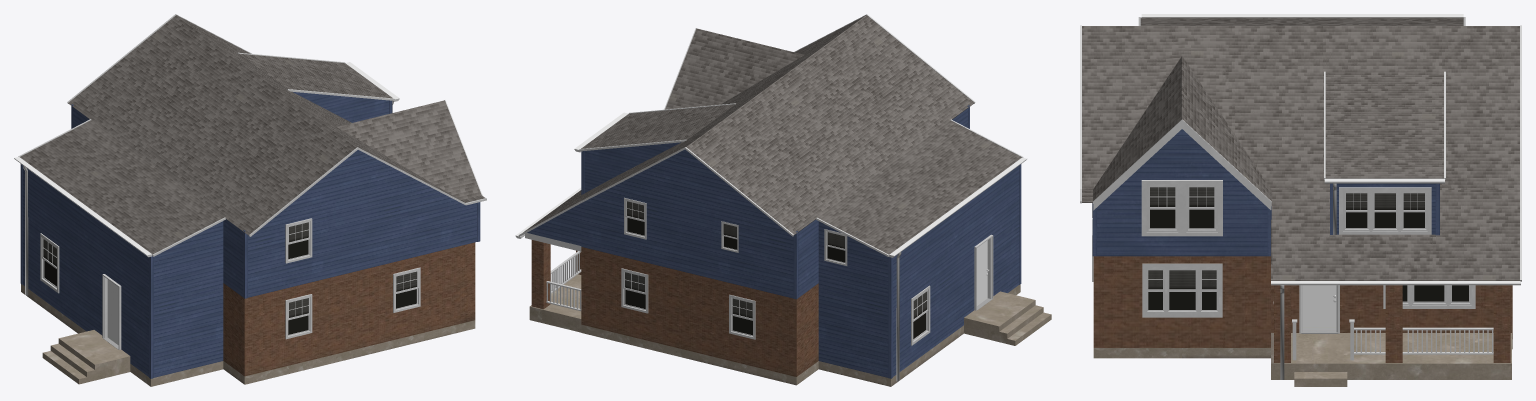
Rendered from home-3.glb.
3 views of the same model, side by side, from view 1: azimuth 30°, elevation 25°; view 2: azimuth 150°, elevation 25°; view 3: azimuth 270°, elevation 25° (orthographic). The views are drawn at different scales.
Parts seen in each view (by area): view 1: Home3_col_V2; view 2: Home3_col_V2; view 3: Home3_col_V2.
Boxes of the visible parts, bbox=[...] form: Home3_col_V2: bbox=[14, 14, 486, 386]; Home3_col_V2: bbox=[515, 14, 1051, 386]; Home3_col_V2: bbox=[1080, 14, 1521, 386].
Bounding box in the file's own units: 15.15 × 7.71 × 11.87.
1 material, 1 textured.
